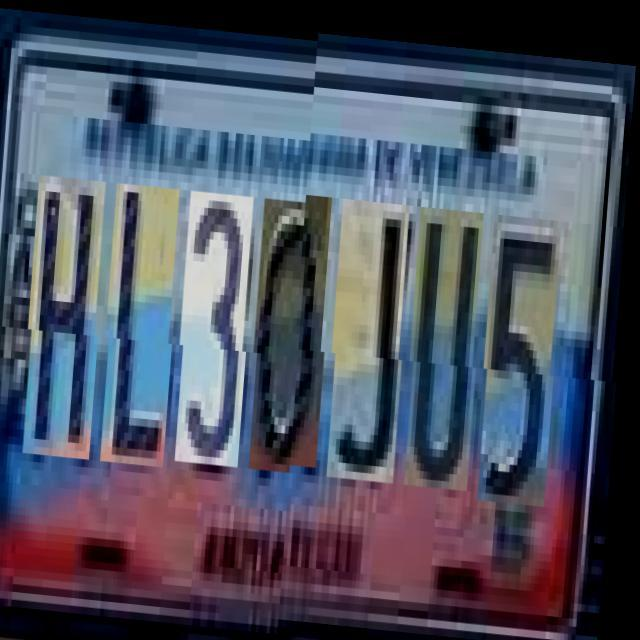3: (182, 186, 260, 462)
5: (484, 212, 568, 502)
H: (29, 175, 112, 458)
J: (332, 199, 416, 482)
L: (107, 181, 186, 464)
O: (256, 192, 338, 468)
U: (410, 205, 490, 488)
